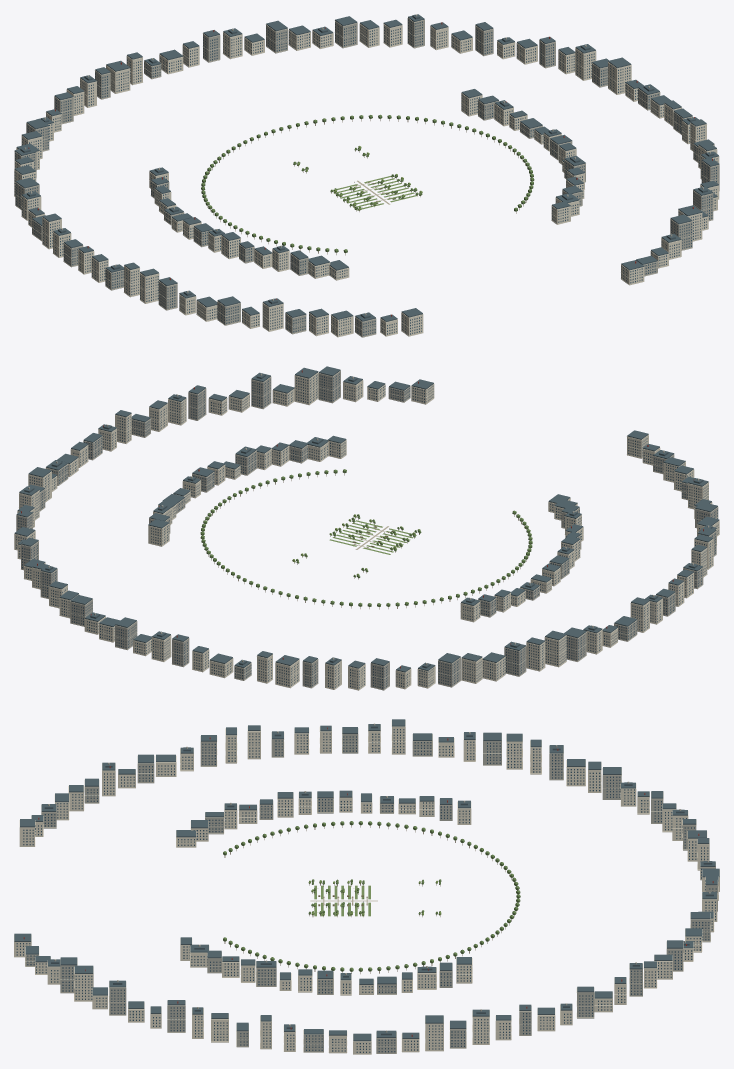
The model's file is park-landscape.glb.
The picture shows the model from 3 angles, top to bottom: view 1: azimuth 30°, elevation 25°; view 2: azimuth 150°, elevation 25°; view 3: azimuth 270°, elevation 25°; orthographic projection. The views are drawn at different scales.
Parts seen in each view (by area): view 1: District stone block.016, District stone block, District roof, District roof.016, District stone block.002, District stone block.017, District window.1356, District window, District cornice.048, District cornice, District avenue canopy, Mown lawn stripe; view 2: District stone block.016, District stone block, District stone block.002, District roof, District roof.016, District stone block.017, District window, District window.1356, District cornice, District cornice.048, District avenue canopy, Mown lawn stripe; view 3: District stone block.016, District stone block, District roof, District roof.016, District stone block.002, District stone block.017, District window, District window.1356, District cornice, District cornice.048, District avenue canopy, Mown lawn stripe.
Part boxes in pixels (bbox=[...]): District stone block.016: bbox=[14, 45, 423, 337]; District stone block: bbox=[223, 23, 719, 285]; District roof: bbox=[203, 14, 719, 270]; District roof.016: bbox=[14, 41, 422, 321]; District stone block.002: bbox=[203, 14, 719, 276]; District stone block.017: bbox=[14, 58, 376, 337]; District window.1356: bbox=[14, 47, 421, 335]; District window: bbox=[203, 19, 717, 283]; District cornice.048: bbox=[14, 44, 423, 337]; District cornice: bbox=[202, 18, 719, 284]; District avenue canopy: bbox=[201, 114, 534, 253]; Mown lawn stripe: bbox=[330, 176, 417, 210]; District stone block.016: bbox=[192, 434, 719, 690]; District stone block: bbox=[14, 372, 434, 661]; District stone block.002: bbox=[16, 371, 410, 667]; District roof: bbox=[14, 366, 433, 643]; District roof.016: bbox=[192, 430, 719, 672]; District stone block.017: bbox=[234, 450, 718, 690]; District window: bbox=[16, 373, 433, 664]; District window.1356: bbox=[194, 438, 718, 688]; District cornice: bbox=[14, 371, 434, 666]; District cornice.048: bbox=[192, 435, 719, 690]; District avenue canopy: bbox=[200, 469, 532, 606]; Mown lawn stripe: bbox=[329, 520, 416, 554]; District stone block.016: bbox=[19, 720, 719, 900]; District stone block: bbox=[14, 893, 717, 1054]; District roof: bbox=[14, 878, 717, 1041]; District roof.016: bbox=[20, 719, 719, 881]; District stone block.002: bbox=[25, 880, 717, 1053]; District stone block.017: bbox=[41, 723, 715, 880]; District window: bbox=[16, 888, 716, 1052]; District window.1356: bbox=[23, 729, 708, 890]; District cornice: bbox=[14, 885, 717, 1054]; District cornice.048: bbox=[20, 720, 719, 900]; District avenue canopy: bbox=[223, 821, 520, 971]; Mown lawn stripe: bbox=[314, 885, 370, 916].
Size of the model in its own units: 1615 by 79.13 by 1567.
